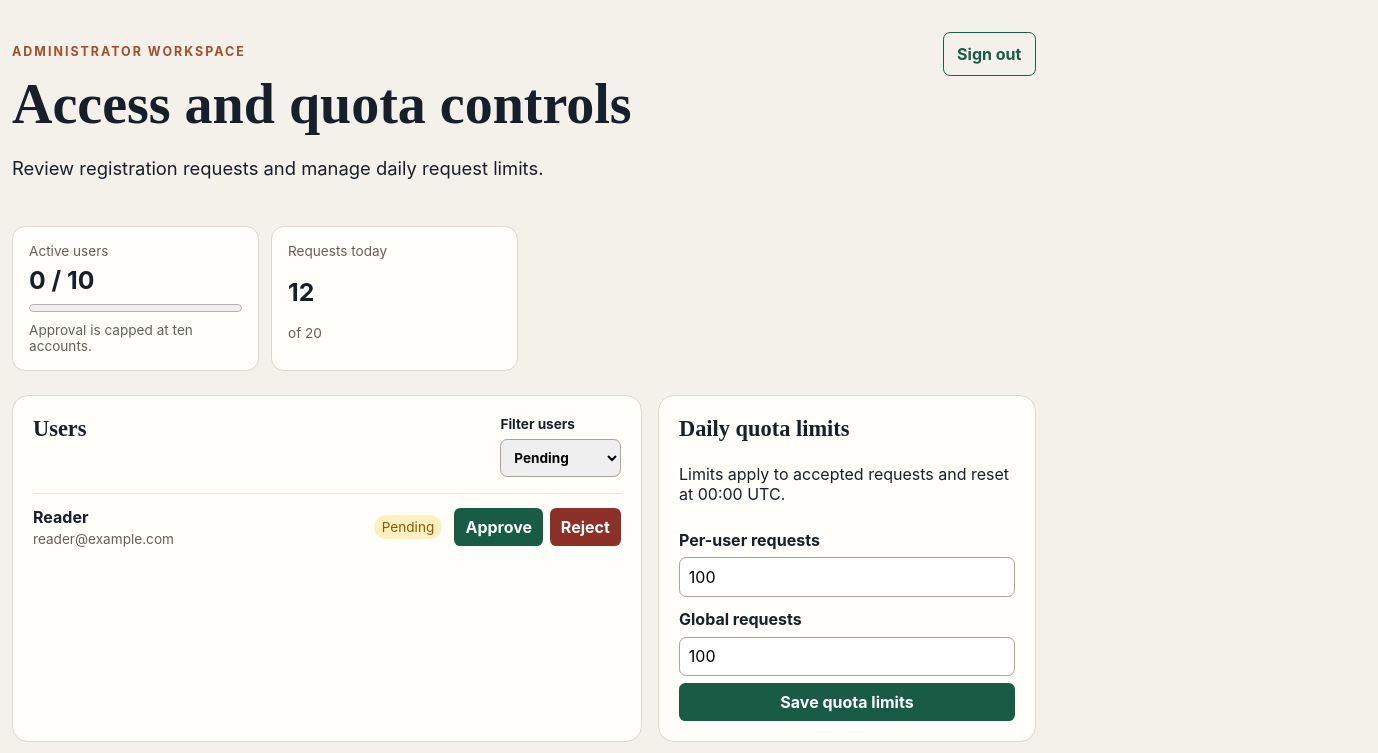
Scenario: AdminPanel › loads users and quota controls, then saves an approval decision and limits
Expected: the text "Reader" is shown, top-left (33, 507), bottom-right (88, 527)
Expected: the number field labelled "Per-user requests" holds "100", top-left (679, 557), bottom-right (1015, 597)
Click the button "Approve".
click(499, 527)  # box top-left (454, 508), bottom-right (543, 546)
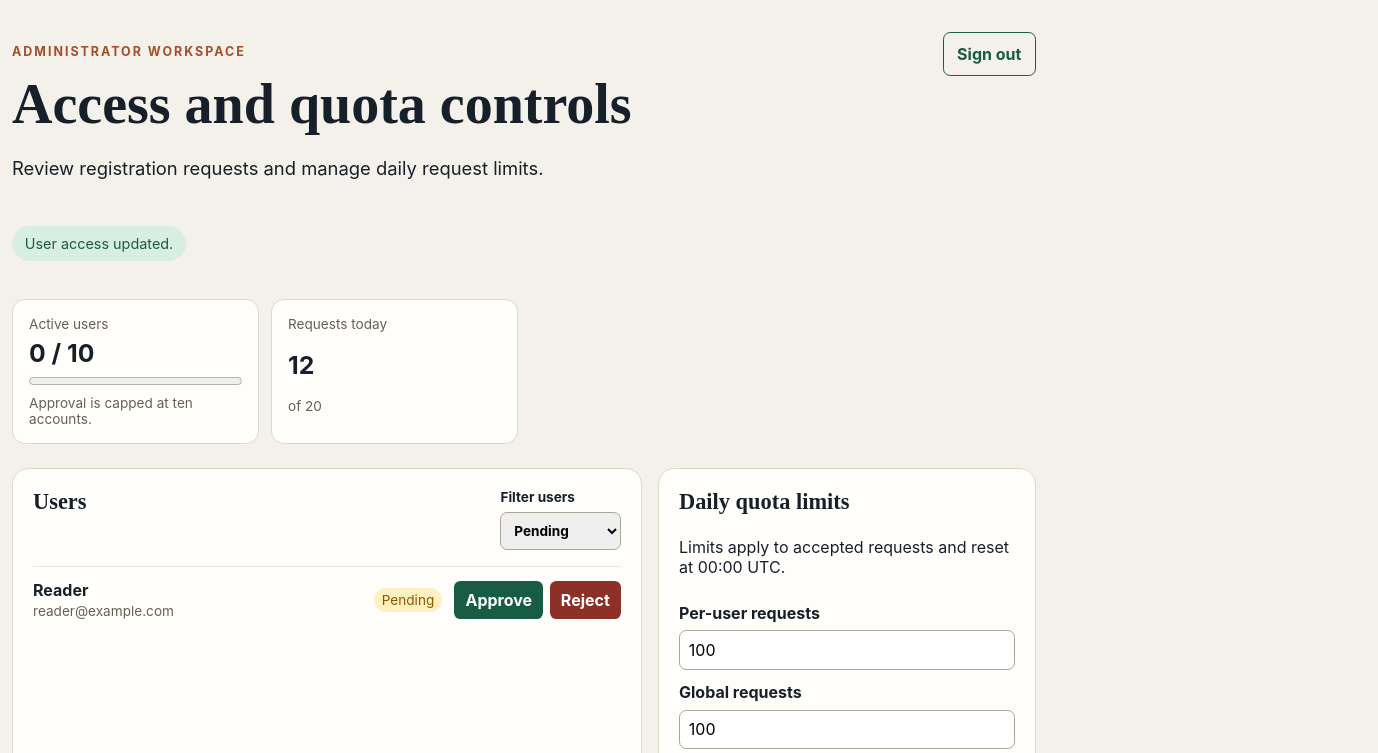
Replace the text in the number field labelled "Per-user requests" with "20" at (847,650), box top-left (679, 630), bottom-right (1015, 670)
(page scrolled)
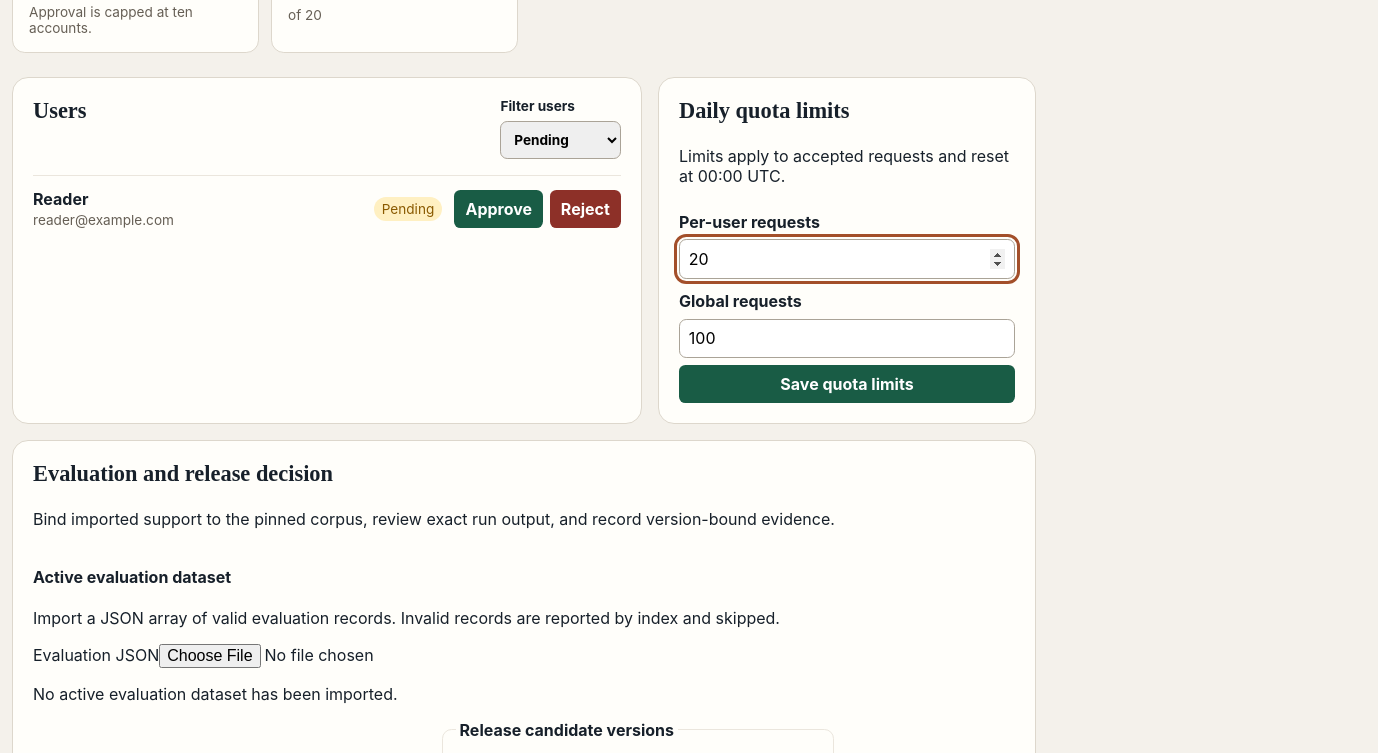
Click the button "Save quota limits".
click(847, 384)  # box top-left (679, 365), bottom-right (1015, 403)
(page scrolled)
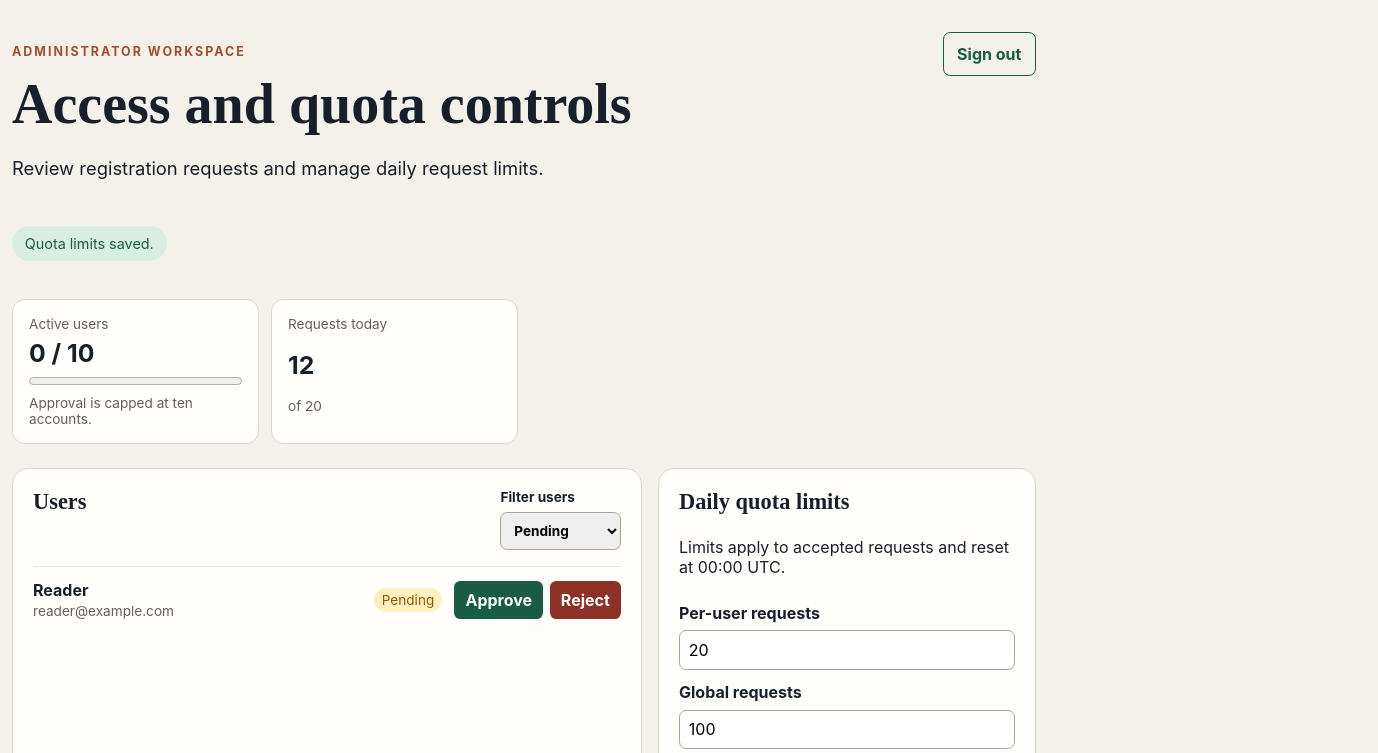
Now the message reads "Quota limits saved.", box top-left (25, 235), bottom-right (154, 252)
